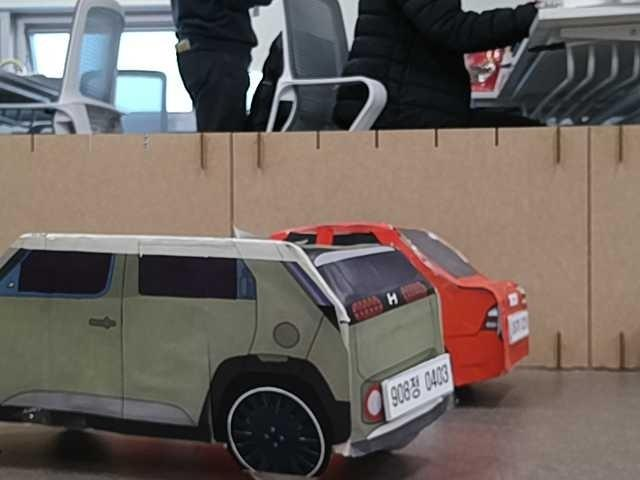car: (0, 232, 453, 479), (268, 221, 529, 401)
id: (385, 359, 455, 418)
